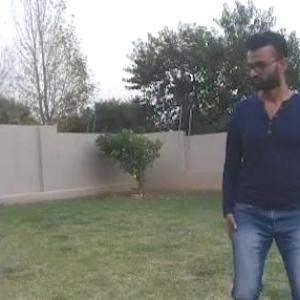follow: (207, 10, 300, 299)
